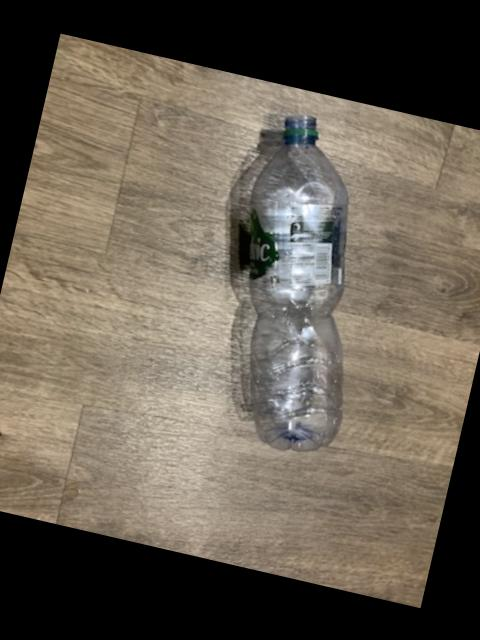plastic: (233, 113, 350, 448)
